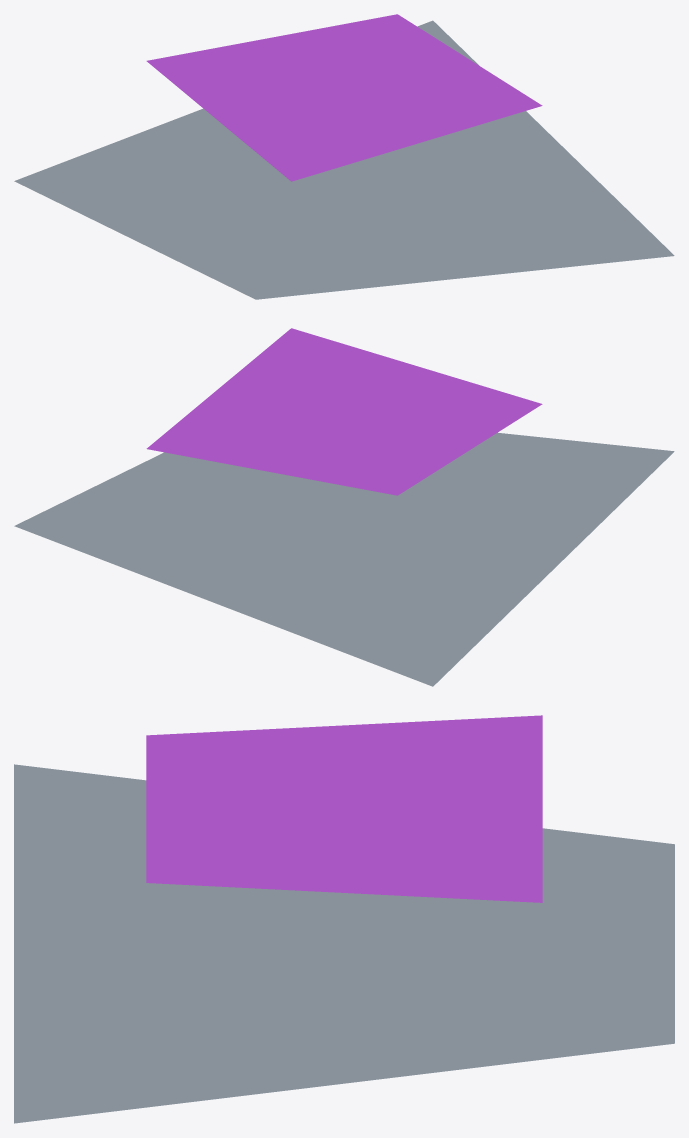
File: CH_NavalYard_LOD2.glb
3 renders of one model, top to bottom at view 1: azimuth 30°, elevation 25°; view 2: azimuth 150°, elevation 25°; view 3: azimuth 270°, elevation 25°, orthographic. The views are drawn at different scales.
Visible parts, largest first — view 1: EntranceGate; view 2: EntranceGate; view 3: EntranceGate.
Boxes of the visible parts, x1,y1,x2,y2 form: EntranceGate: (14, 14, 674, 299); EntranceGate: (14, 328, 674, 686); EntranceGate: (14, 715, 674, 1123).
Bounding box in the file's own units: 1000 × 308 × 1000.
